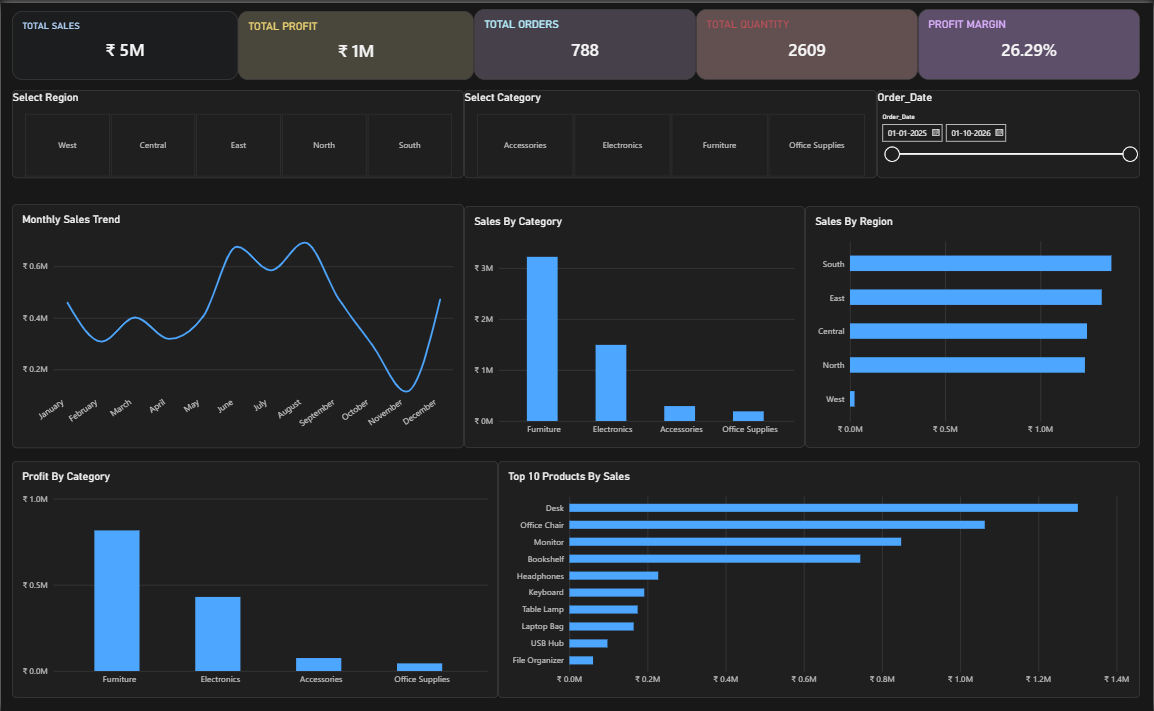

This screenshot's page, from the dashboard's own definition file:
{"tool":"powerbi","page":{"name":"Page 1","canvas":[1920,1180],"ordinal":0},"visuals":[{"type":"card","title":"TOTAL SALES","fields":{"Values":["Raw_Sales_Data_PowerBI_Project.Total Sales"]},"box":[18.3,13.3,376.7,115],"z":0},{"type":"card","title":"TOTAL ORDERS ","fields":{"Values":["Raw_Sales_Data_PowerBI_Project.Total Orders"]},"box":[788.3,10,370,118.3],"z":1000},{"type":"card","title":"TOTAL QUANTITY","fields":{"Values":["Raw_Sales_Data_PowerBI_Project.Total Quantity"]},"box":[1158.3,10,370,118.3],"z":2000},{"type":"card","title":"TOTAL PROFIT","fields":{"Values":["Raw_Sales_Data_PowerBI_Project.Total Profit"]},"box":[395,13.3,393.3,115],"z":3000},{"type":"card","title":"PROFIT MARGIN","fields":{"Values":["Raw_Sales_Data_PowerBI_Project.Profit Margin %"]},"box":[1528.3,10,370,118.3],"z":4000},{"type":"lineChart","title":"Monthly Sales Trend","fields":{"Category":["Raw_Sales_Data_PowerBI_Project.Order_Date.Variation.Date Hierarchy.Month"],"Y":["Raw_Sales_Data_PowerBI_Project.Total Sales"]},"box":[18.3,335,753.3,406.7],"z":5000},{"type":"clusteredColumnChart","title":"Sales By Category","fields":{"Category":["Raw_Sales_Data_PowerBI_Project.Product_Category"],"Y":["Raw_Sales_Data_PowerBI_Project.Total Sales"]},"box":[771.7,338.3,568.3,403.3],"z":6000},{"type":"barChart","title":"Sales By Region","fields":{"Category":["Raw_Sales_Data_PowerBI_Project.Region"],"Y":["Raw_Sales_Data_PowerBI_Project.Total Sales"]},"box":[1340,338.3,558.3,403.3],"z":7000},{"type":"clusteredBarChart","title":"Top 10 Products By Sales","fields":{"Category":["Raw_Sales_Data_PowerBI_Project.Product_Name"],"Y":["Raw_Sales_Data_PowerBI_Project.Total Sales"]},"box":[828.3,763.3,1070,395],"z":8000},{"type":"clusteredColumnChart","title":"Profit By Category","fields":{"Category":["Raw_Sales_Data_PowerBI_Project.Product_Category"],"Y":["Raw_Sales_Data_PowerBI_Project.Total Profit"]},"box":[18.3,763.3,810,395],"z":9000},{"type":"slicer","title":"Select Category","fields":{"Values":["Raw_Sales_Data_PowerBI_Project.Product_Category"]},"box":[771.7,145,688.3,146.7],"z":11000},{"type":"slicer","title":"Order_Date","fields":{"Values":["Raw_Sales_Data_PowerBI_Project.Order_Date"]},"box":[1460,145,438.3,146.7],"z":12000},{"type":"slicer","title":"Select Region","fields":{"Values":["Raw_Sales_Data_PowerBI_Project.Region"]},"box":[18.3,145,753.3,146.7],"z":12001}]}

Visuals, with their boxes in screenshot pixels (x1, y1, x2, y2), scaled from the page's 1920x1180 canvas onto the 1154x711 screenshot:
"TOTAL SALES" card: (11,8,237,77)
"TOTAL ORDERS " card: (474,6,696,77)
"TOTAL QUANTITY" card: (696,6,919,77)
"TOTAL PROFIT" card: (237,8,474,77)
"PROFIT MARGIN" card: (919,6,1141,77)
"Monthly Sales Trend" lineChart: (11,202,464,447)
"Sales By Category" clusteredColumnChart: (464,204,805,447)
"Sales By Region" barChart: (805,204,1141,447)
"Top 10 Products By Sales" clusteredBarChart: (498,460,1141,698)
"Profit By Category" clusteredColumnChart: (11,460,498,698)
"Select Category" slicer: (464,87,878,176)
"Order_Date" slicer: (878,87,1141,176)
"Select Region" slicer: (11,87,464,176)
